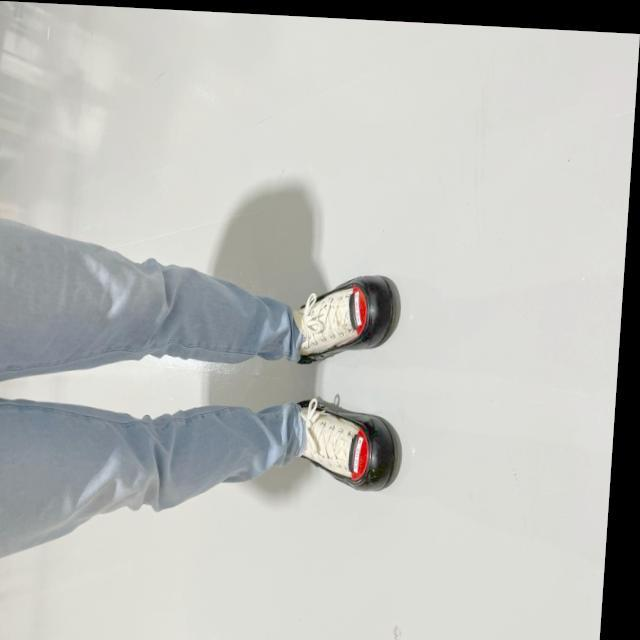shoes: (281, 397, 405, 499), (283, 268, 403, 364)
